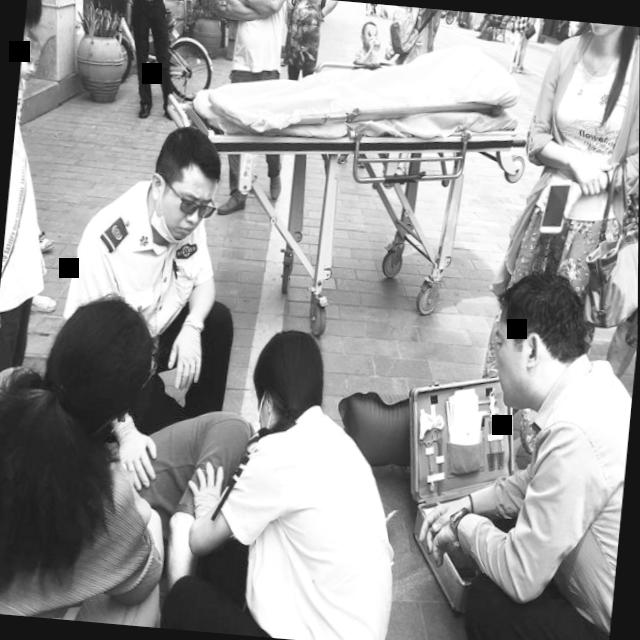Fall-Detected: (65, 361, 275, 626)
